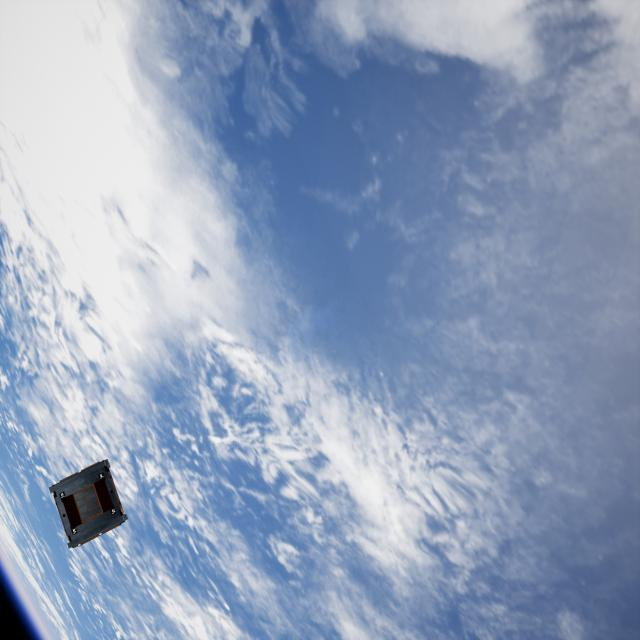medium_debris: (48, 456, 132, 546)
